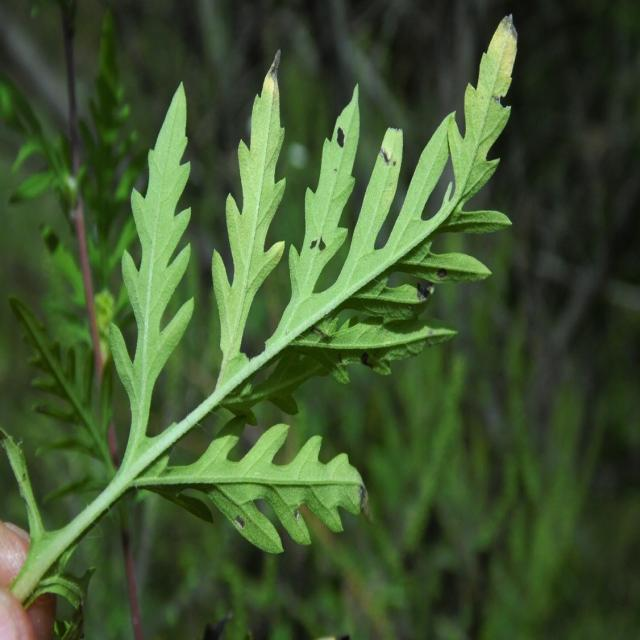ambrosia: (44, 29, 548, 564)
